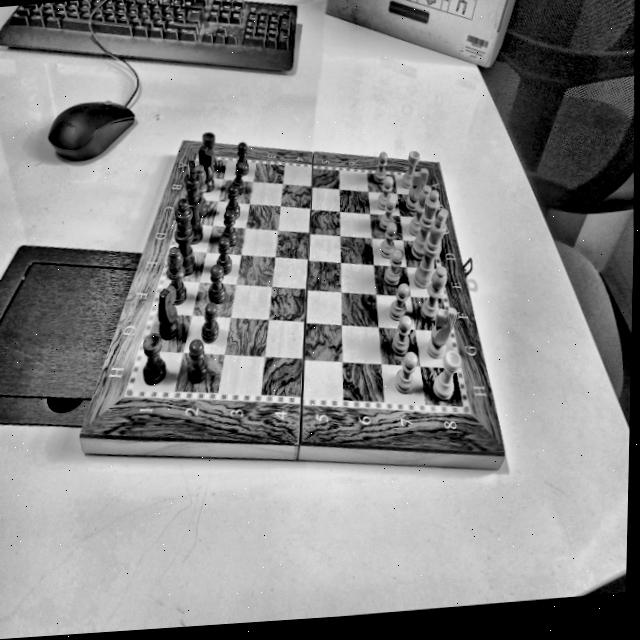black-bishop: (164, 241, 188, 307), (192, 159, 209, 216)
black-king: (178, 157, 205, 245)
black-knight: (154, 282, 182, 342), (195, 140, 219, 192)
black-pawn: (184, 338, 206, 383), (204, 260, 226, 302), (199, 301, 221, 341), (213, 232, 234, 273), (219, 205, 240, 245), (223, 184, 242, 219), (230, 158, 247, 194), (233, 138, 250, 173)
black-queen: (171, 197, 197, 276)
black-rook: (138, 330, 168, 386), (200, 128, 217, 169)
white-bishop: (420, 268, 450, 320), (407, 184, 432, 237)
white-king: (411, 207, 452, 289)
white-knight: (423, 305, 458, 357), (404, 166, 430, 211)
white-pawn: (392, 349, 418, 393), (388, 315, 412, 357), (386, 282, 409, 321), (383, 247, 403, 286), (376, 175, 394, 208), (378, 196, 396, 229), (379, 222, 396, 256), (373, 148, 389, 183)
white-queen: (410, 186, 443, 261)
white-rook: (428, 347, 461, 402), (399, 136, 421, 188)
